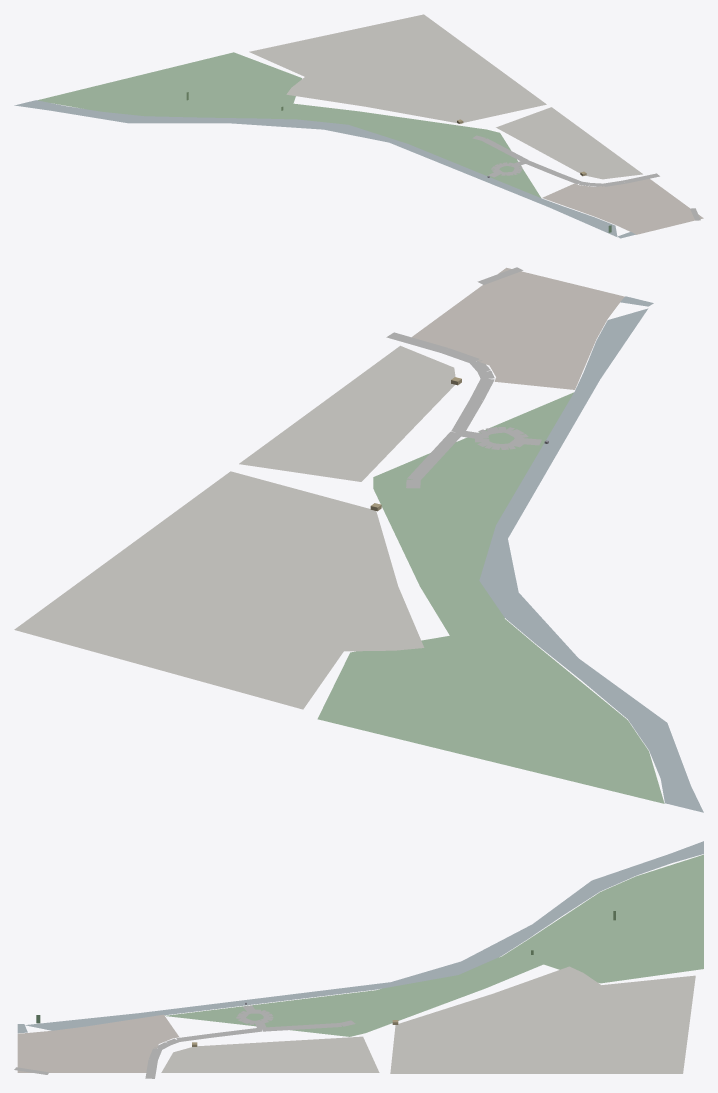
3 views of the same model, one above another, from view 1: azimuth 30°, elevation 25°; view 2: azimuth 150°, elevation 25°; view 3: azimuth 270°, elevation 25° (orthographic). The views are drawn at different scales.
Size of the model in its own units: 412 by 8.09 by 503.
